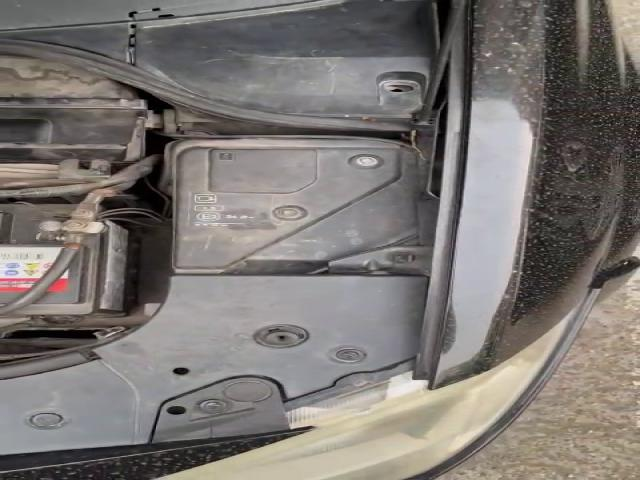accumulator: (0, 205, 133, 316)
fuse_box: (176, 148, 405, 270)
